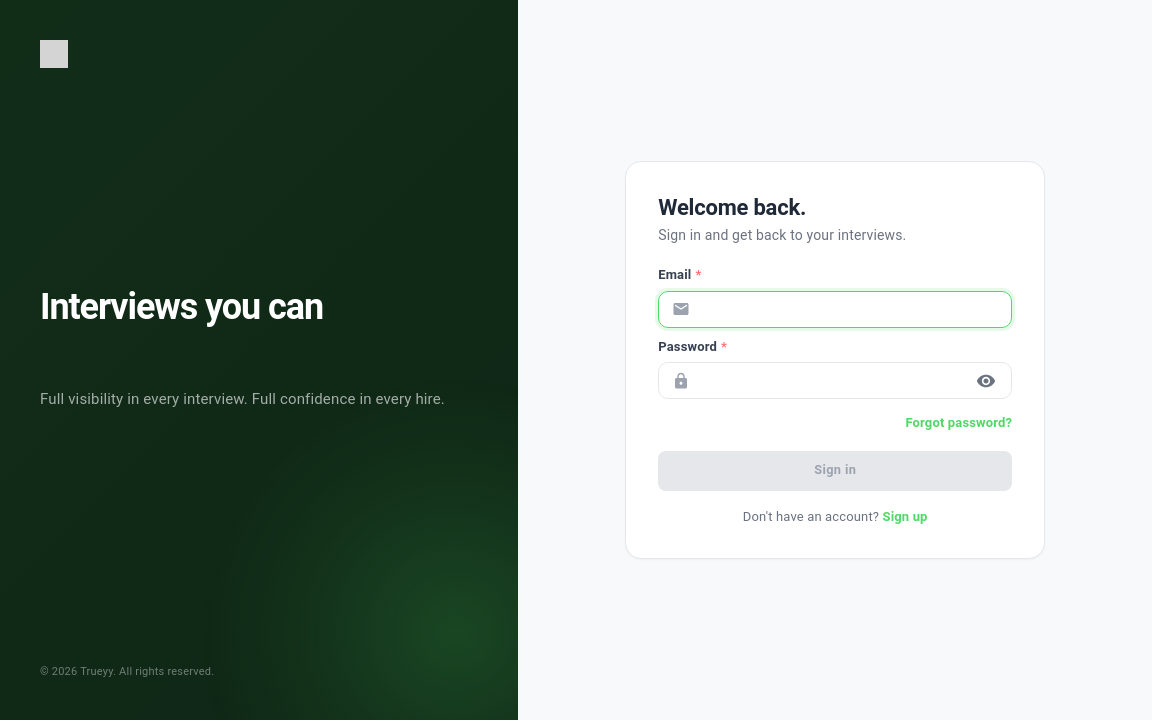
Test case: Login › invalid email shows an inline field error and blocks submit
The image size is (1152, 720).
In the field labelled "Email *": x=855, y=309 [698, 291, 1012, 328], type "nope"
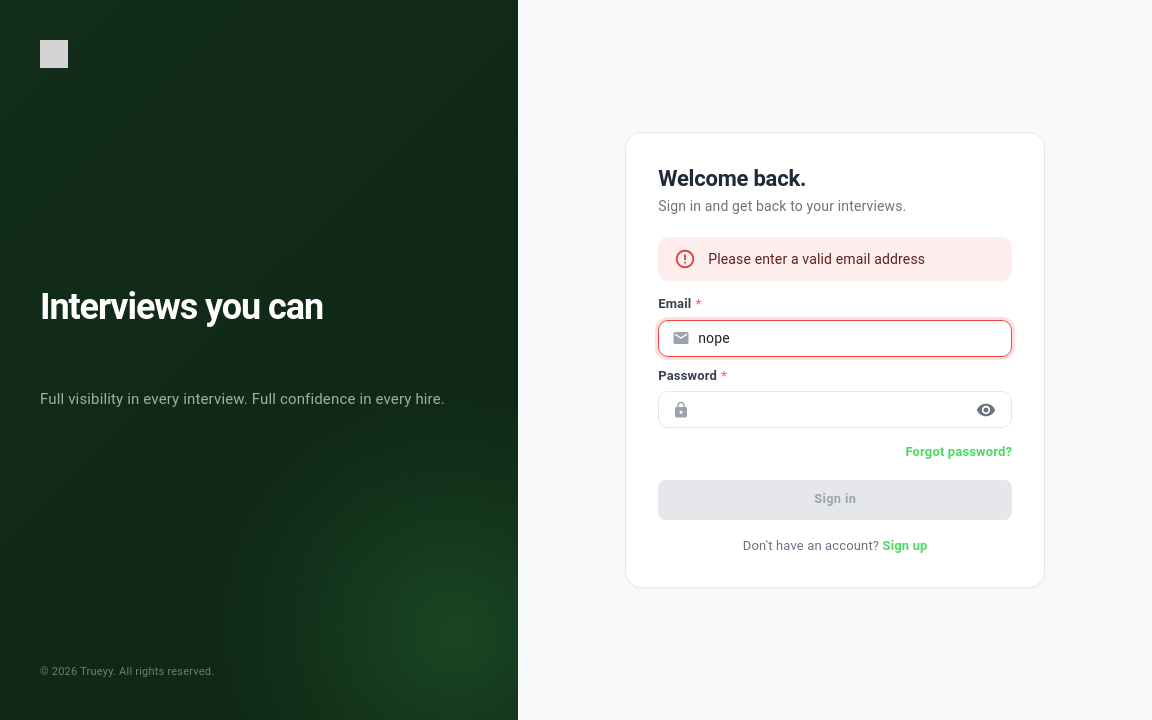
Expected: the button "Sign in" is disabled, [658, 480, 1012, 520]
Now the text "Please enter a valid email address" is shown, box [708, 251, 925, 267]
